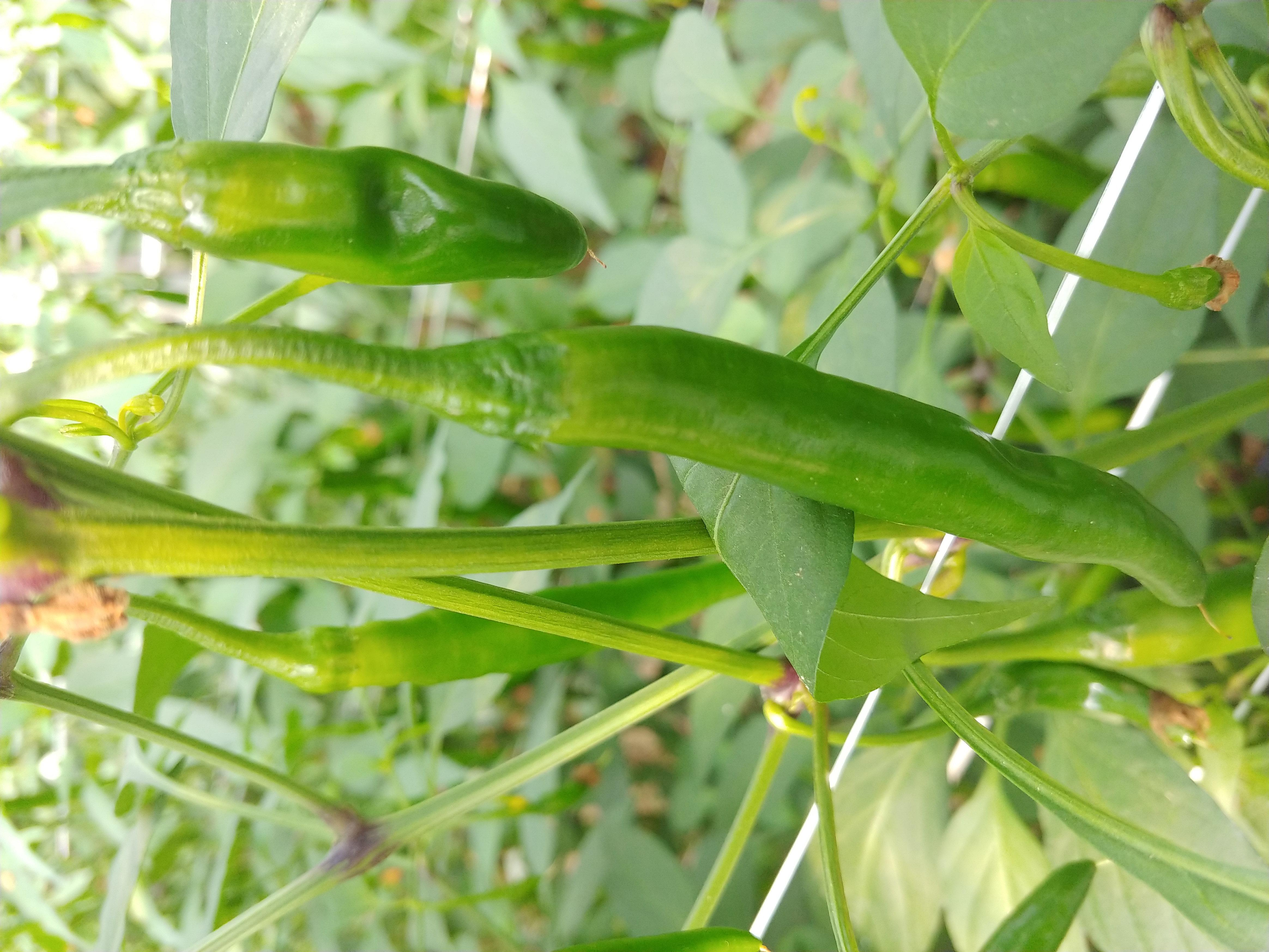Buah Cabai Sehat: (428, 312, 1213, 611), (125, 132, 584, 300)
